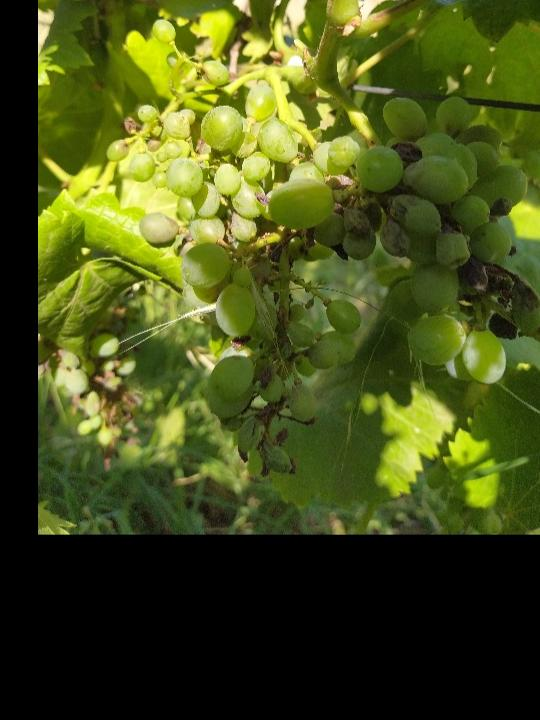grape: (106, 18, 534, 496)
